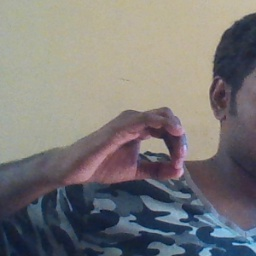O: (69, 104, 189, 188)
